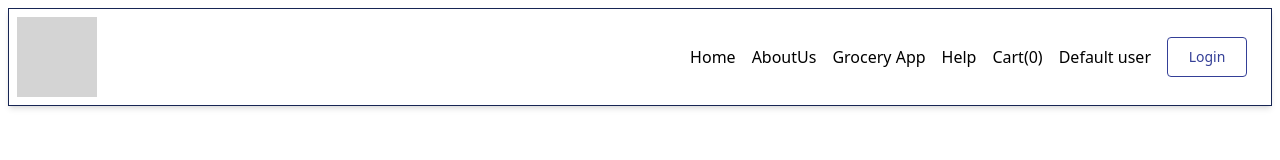
Login button must change into Logout when clicked, and back to Login when clicked again
Step 1. Click the button "Login" → coordinates (1207, 57), box left=1167, top=37, right=1247, bottom=77
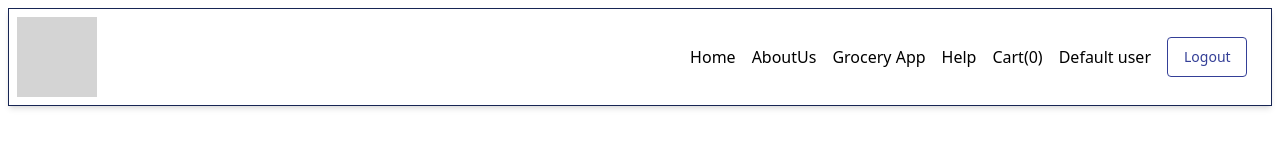
Now the button "Logout" is shown
Step 2. Click the button "Logout" → coordinates (1207, 57), box left=1167, top=37, right=1247, bottom=77
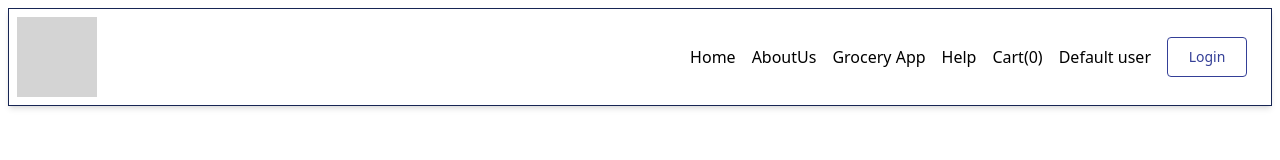
Now the button "Login" is shown, box left=1167, top=37, right=1247, bottom=77
